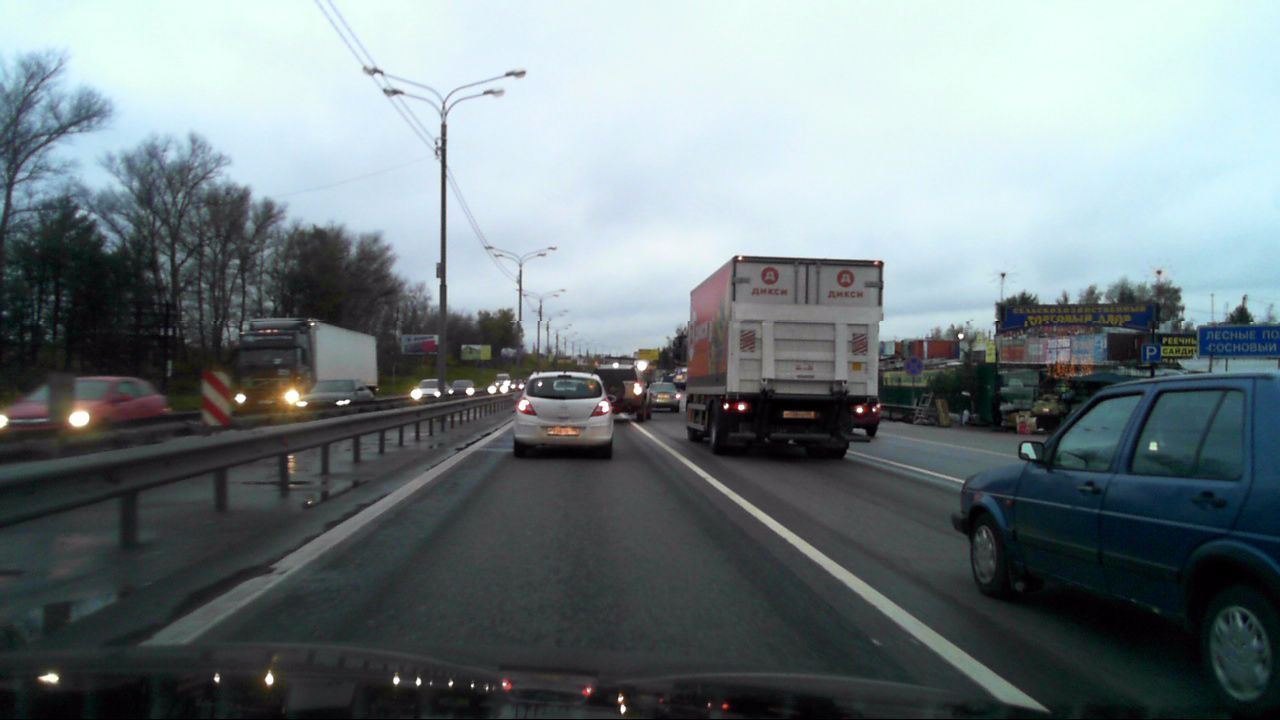No Parking: (904, 355, 924, 376)
